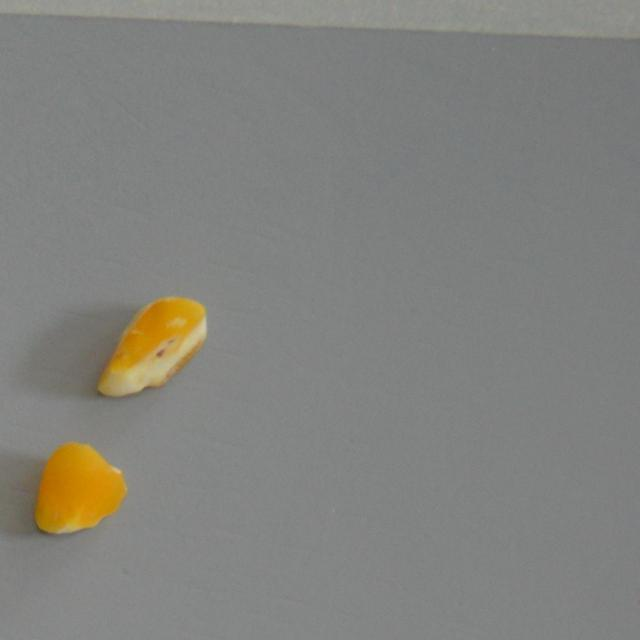estandar: (20, 437, 136, 542)
punto_negro: (94, 284, 213, 402)
